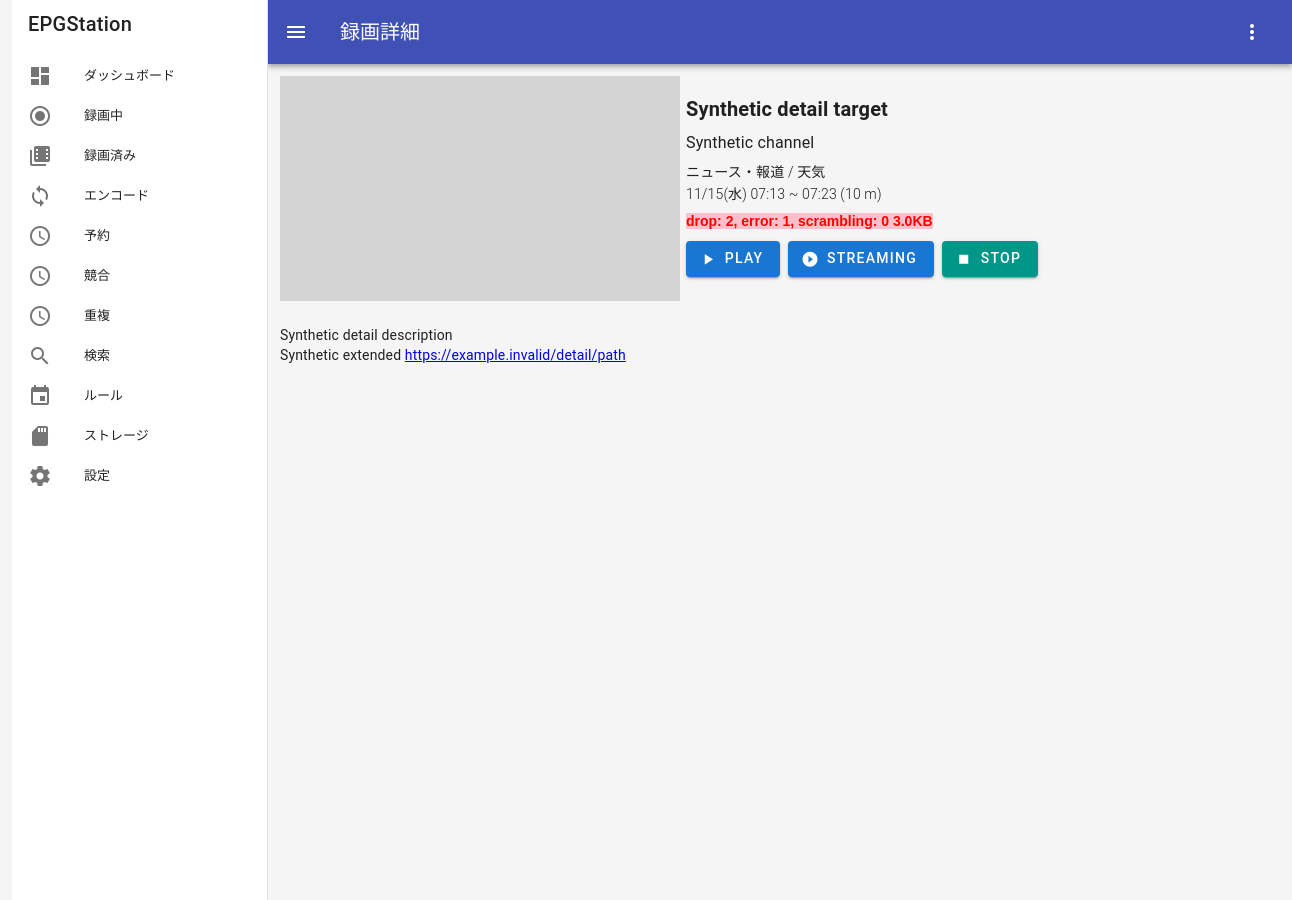
Test: Recorded detail route, data, and actions › [AC 3.33] [AC 3.20] [AC 4.3] renders recorded detail metadata and file actions with the legacy Vue structure
Expected: the element with test id "recorded-detail-page" shows "ニュース・報道 / 天気", [686,164,826,180]
Expected: the element with test id "recorded-detail-page" shows "drop: 2, error: 1, scrambling: 0 3.0KB", [686,212,933,228]
Click the button "streaming" at (861, 258), box [788,240,934,276]
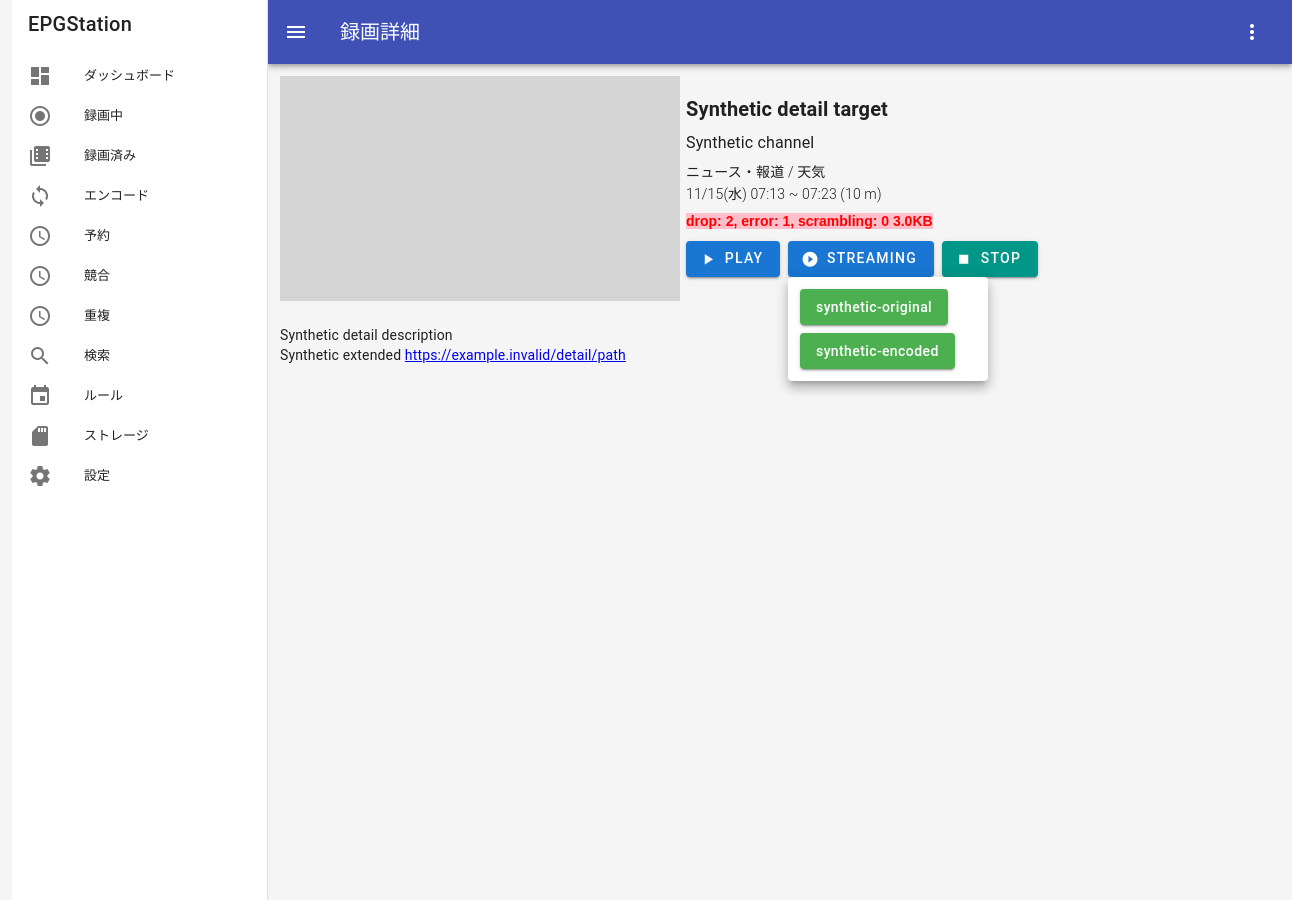
Now the button "synthetic-original" is shown, box [800,289,948,325]
Now the button "synthetic-encoded" is shown, box [800,333,955,369]
